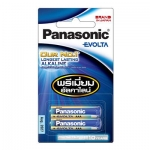Battery: (49, 117, 103, 132), (49, 105, 102, 118)
